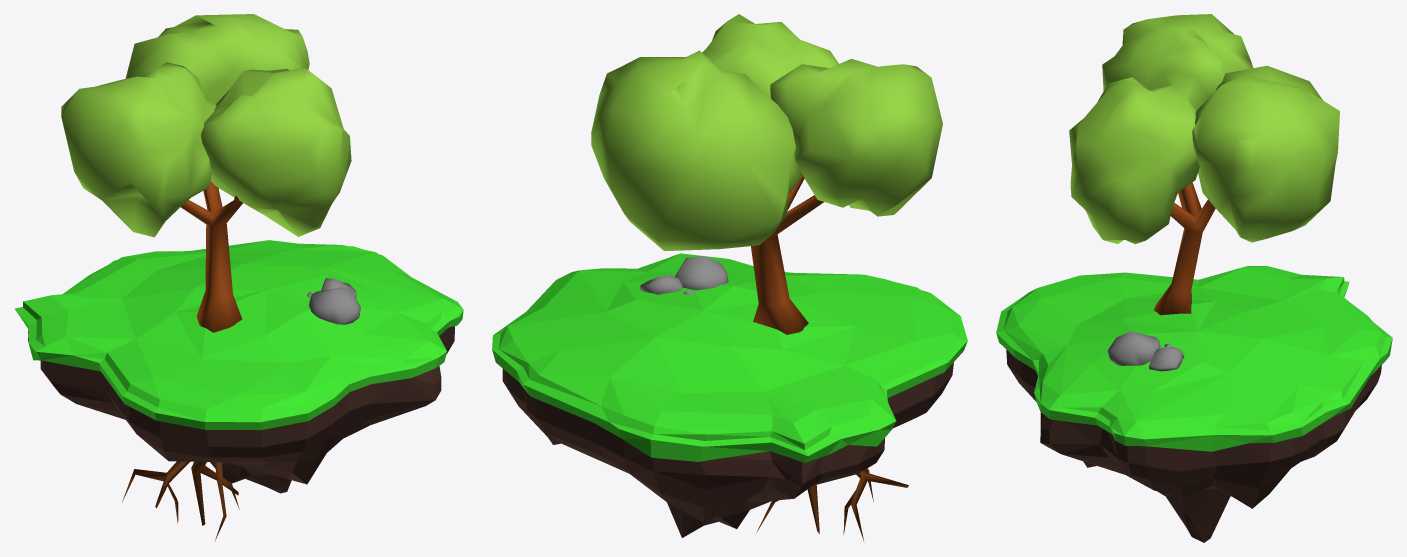
File: isla1.fbx
3 views of the same model, side by side, from view 1: azimuth 30°, elevation 25°; view 2: azimuth 150°, elevation 25°; view 3: azimuth 270°, elevation 25° (orthographic). The views are drawn at different scales.
Parts seen in each view (by area): view 1: Cube; view 2: Cube; view 3: Cube.
Part boxes in pixels (x1=…): Cube: x1=14, y1=14, x2=463, y2=541; Cube: x1=492, y1=14, x2=967, y2=540; Cube: x1=996, y1=14, x2=1392, y2=542.
Size of the model in its own units: 2237 by 2690 by 2161.
